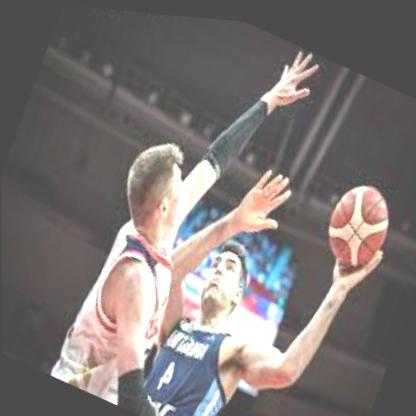basketball: (317, 169, 398, 273)
